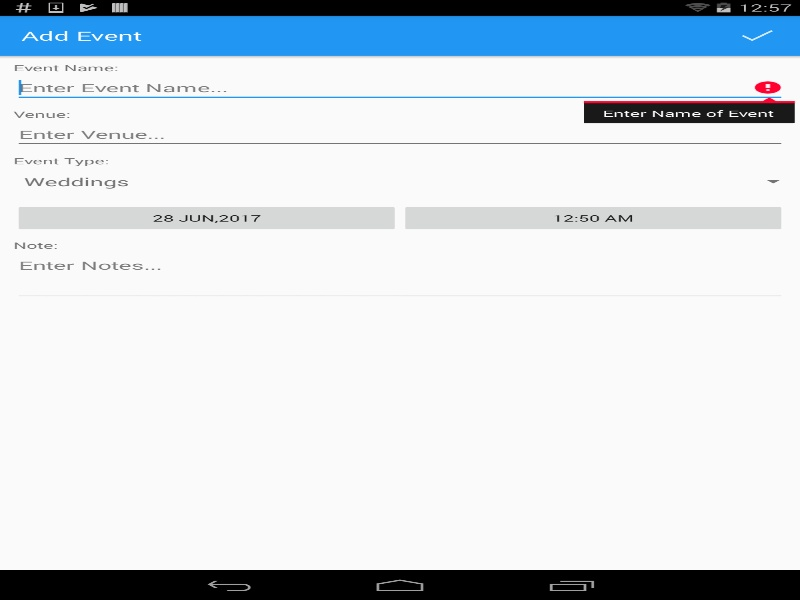Button: (13, 203, 400, 233), (400, 203, 786, 233)
Input: (13, 251, 786, 301), (13, 73, 786, 102), (13, 120, 786, 148)
